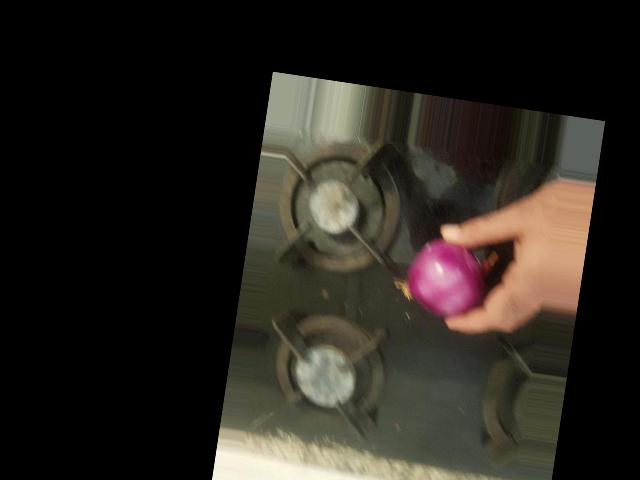onion: (398, 229, 496, 323)
